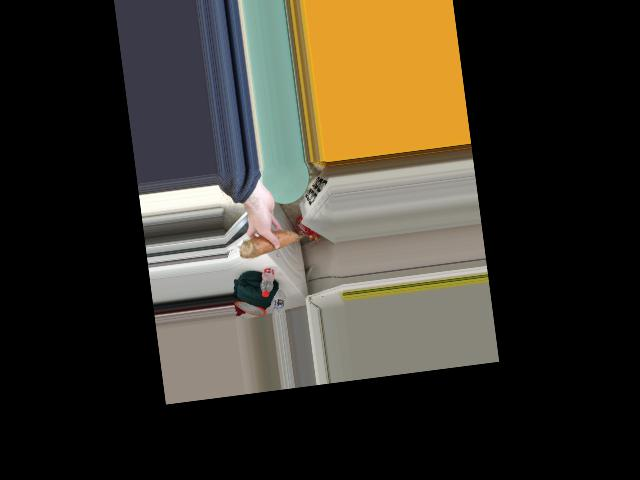sweet_potato: (237, 230, 302, 254)
